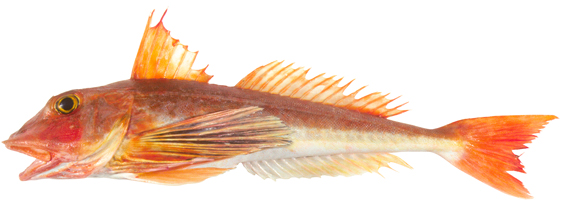fish: (4, 10, 559, 201)
